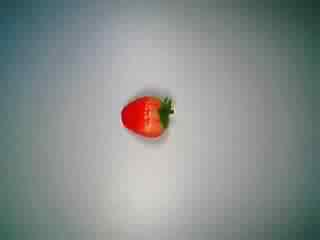strawberry: (116, 83, 182, 149)
